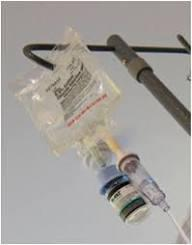Iv_Bottle: (78, 138, 148, 222)
Syringe: (105, 134, 189, 243)
